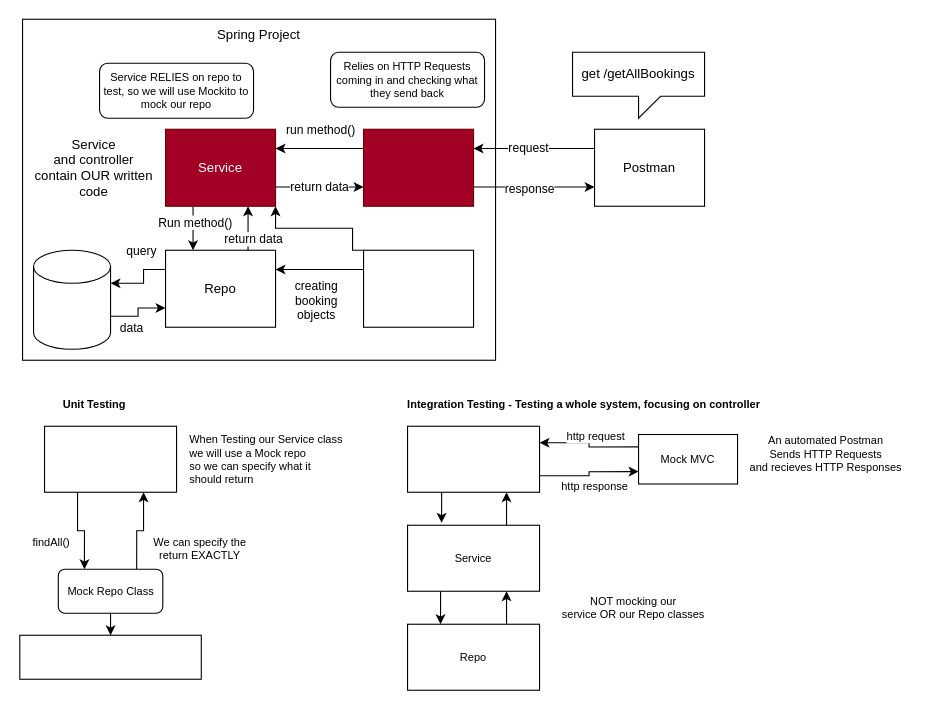
This 932x710 diagram has some shape labels left out. Each missing label, with the centre of its shape:
"Controller" goes at (418,167).
"Controller Class" goes at (473,458).
"Custom Queries in our Repo are tested by Service Class" goes at (110,656).
"h2 testDB" goes at (71,299).
"HolidayBooking" goes at (418,288).
"Service Class" goes at (110,458).
